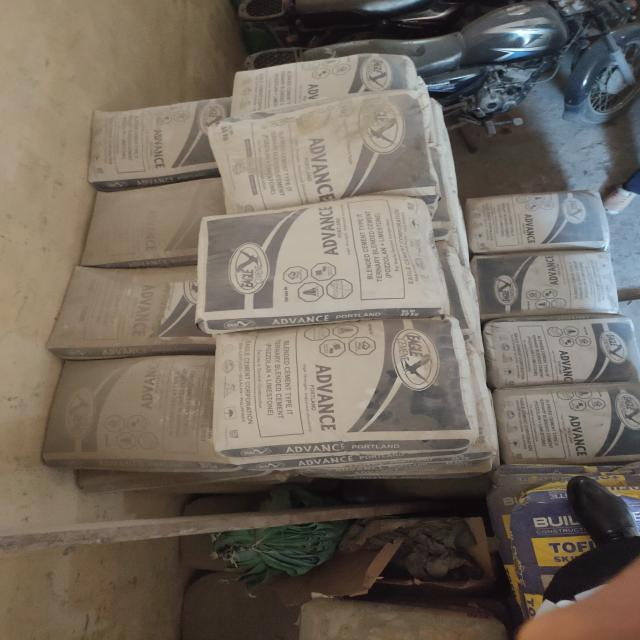Cement: (224, 314, 464, 444), (202, 212, 436, 315), (220, 116, 418, 209), (64, 359, 233, 465), (72, 270, 217, 347), (83, 185, 228, 262), (505, 389, 640, 459), (479, 252, 618, 313), (490, 322, 629, 383), (234, 65, 423, 108), (465, 193, 605, 247)
